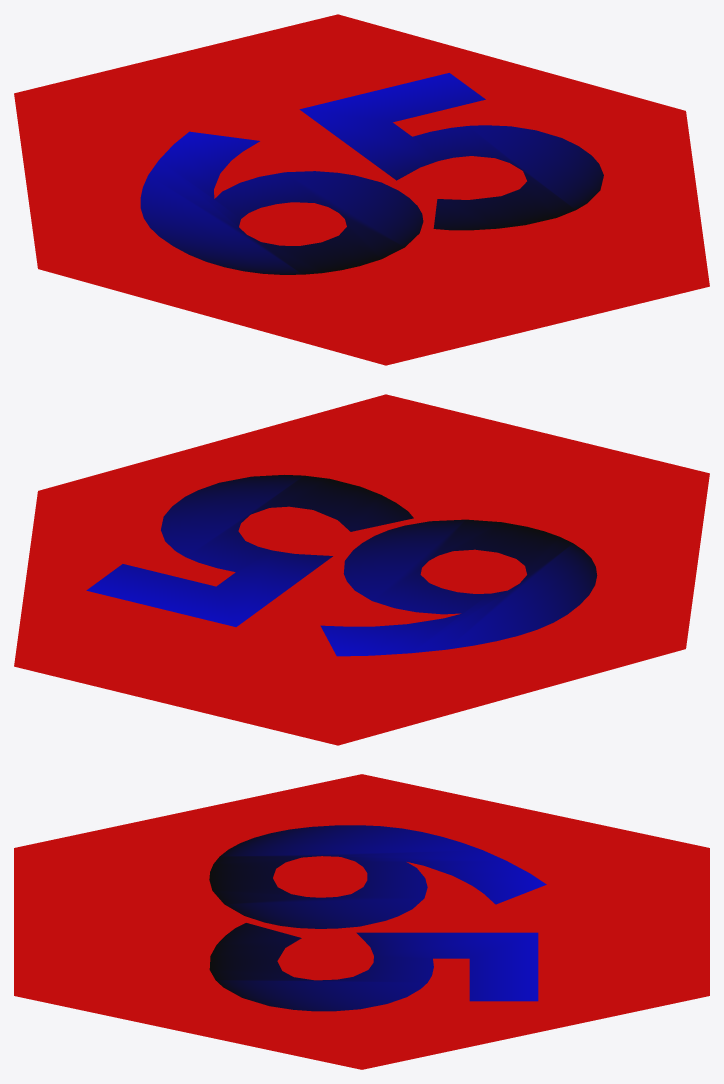
The model's file is SM_Number_65.fbx.
3 renders of one model, top to bottom at view 1: azimuth 30°, elevation 25°; view 2: azimuth 150°, elevation 25°; view 3: azimuth 270°, elevation 25°, orthographic. The views are drawn at different scales.
Visible parts, largest first — view 1: FBX_OUT; view 2: FBX_OUT; view 3: FBX_OUT.
Boxes of the visible parts, bbox=[...] form: FBX_OUT: bbox=[14, 14, 709, 365]; FBX_OUT: bbox=[14, 394, 709, 745]; FBX_OUT: bbox=[14, 774, 709, 1069].
Size of the model in its own units: 50 by 0.2917 by 49.71.
